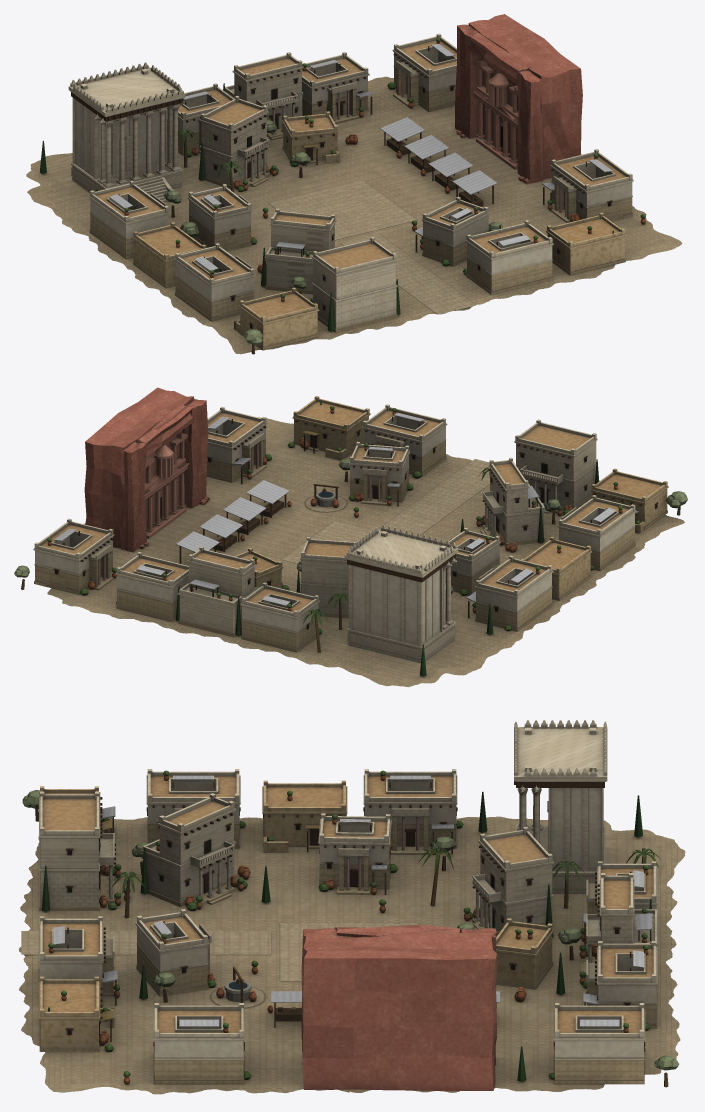
The model's file is classical-town-medium-a-levant.glb.
The picture shows the model from 3 angles, top to bottom: view 1: azimuth 30°, elevation 25°; view 2: azimuth 150°, elevation 25°; view 3: azimuth 270°, elevation 25°; orthographic projection. The views are drawn at different scales.
Visible parts, largest first — view 1: LOD0; view 2: LOD0; view 3: LOD0.
Part boxes in pixels (x1,y1,x2,y2): LOD0: [26, 14, 682, 354]; LOD0: [14, 387, 687, 687]; LOD0: [19, 720, 685, 1094].
Size of what is drawn, in the model's own units: 6.03 by 1.34 by 6.09.
Materials: 3 (3 with a texture image).
